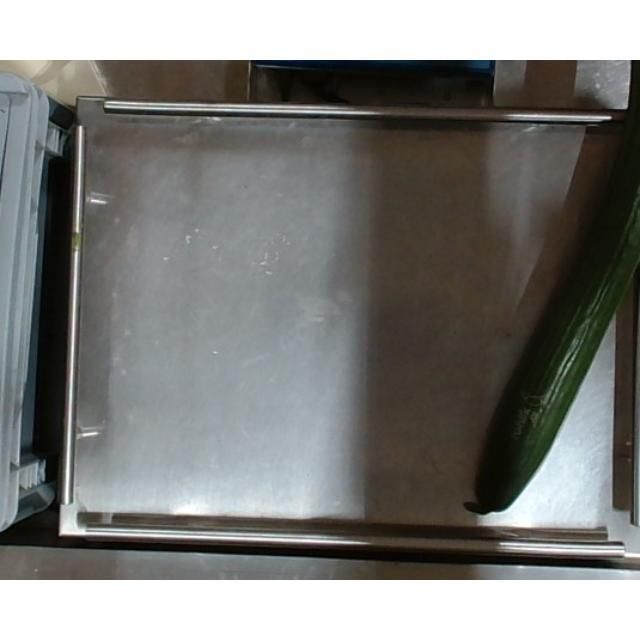cucumber: (466, 81, 640, 512)
